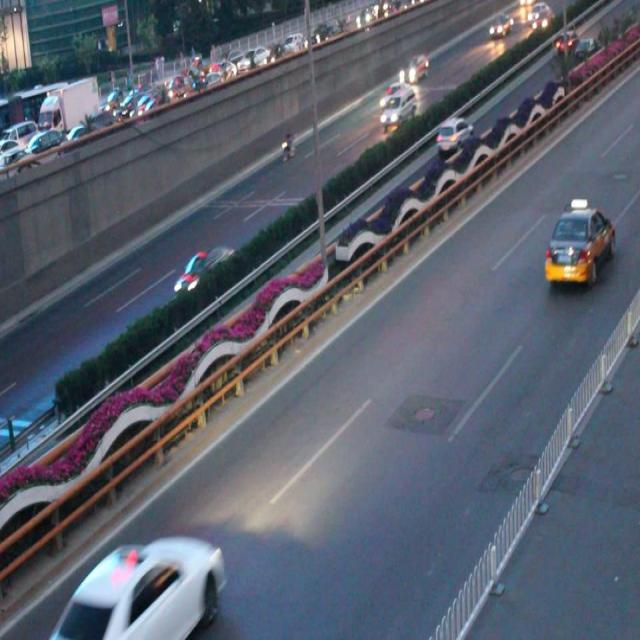car: (57, 535, 223, 640), (542, 198, 616, 288), (170, 248, 236, 296), (434, 110, 470, 150), (396, 57, 429, 89), (376, 77, 409, 108)
truck: (380, 88, 420, 126)
